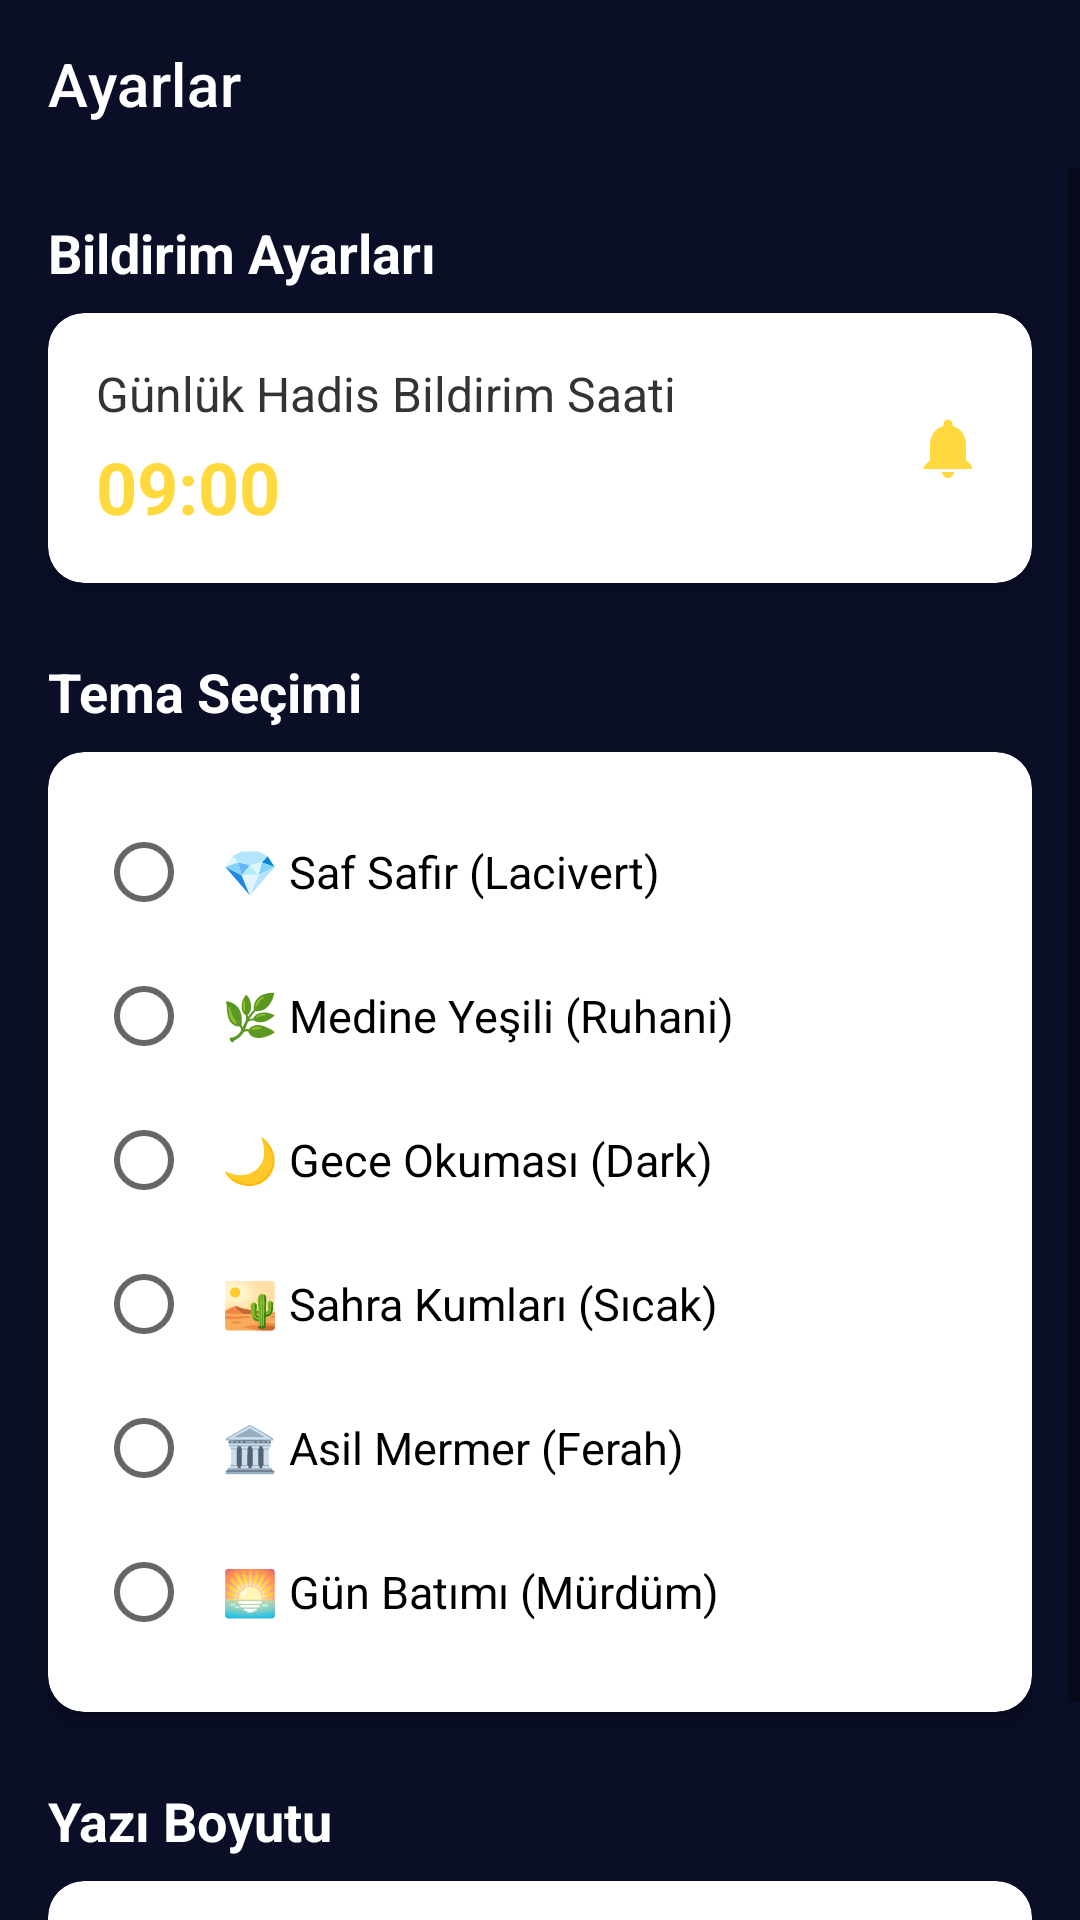

Locate icon controls on the screen. Image size 1080x1920, boxes as (x1, y1, x2, y2).
notifications: (924, 419, 972, 478)
